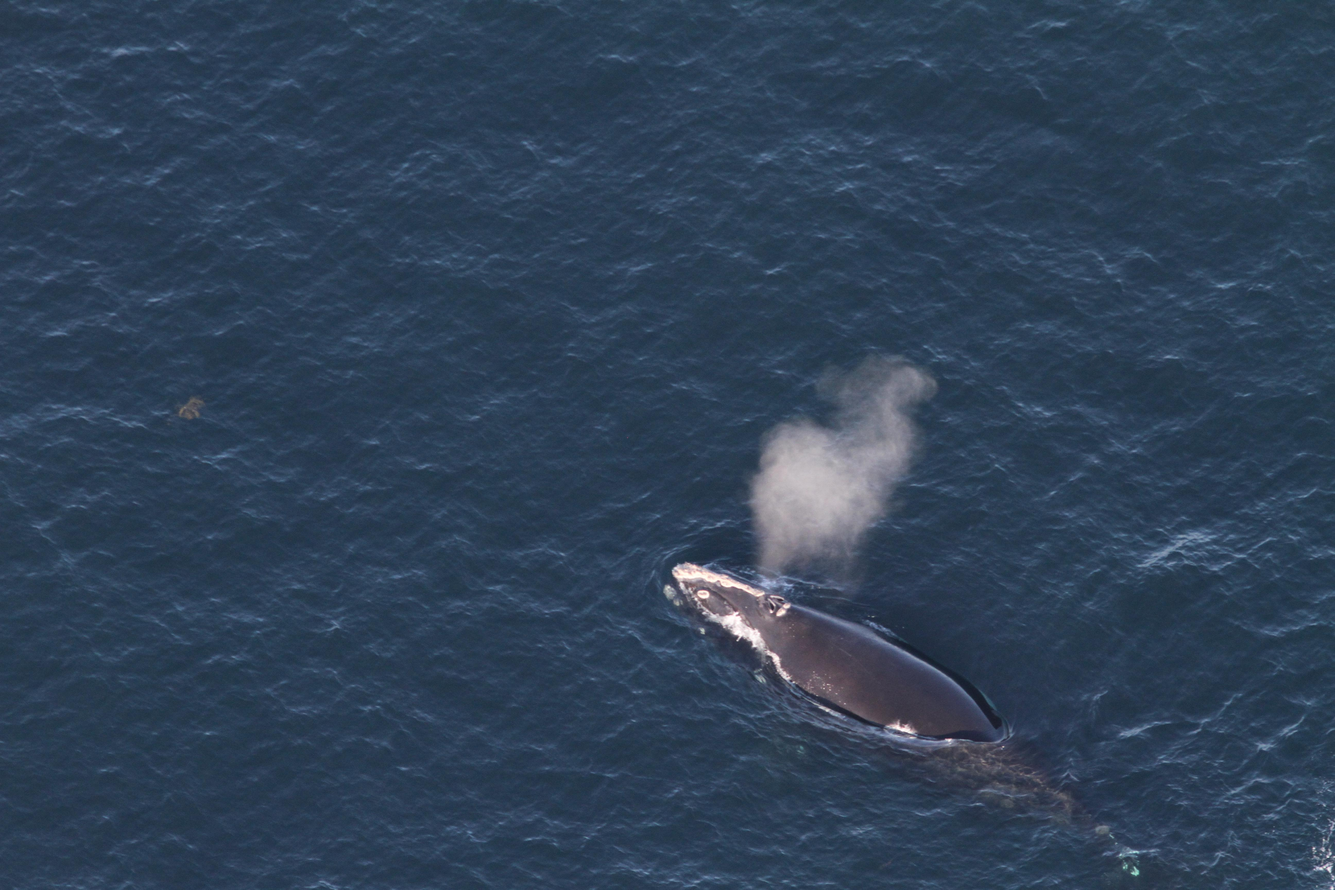whale: (652, 554, 1222, 890)
